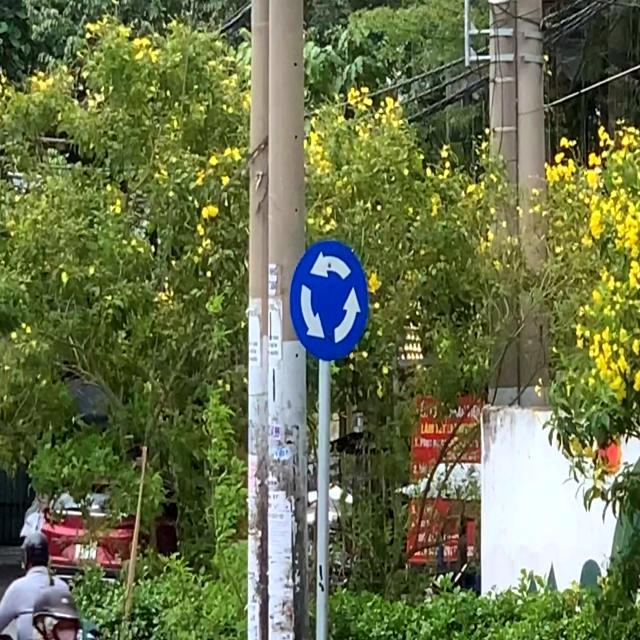Noi giao nhau chay theo vong xuyen: (288, 238, 369, 362)
